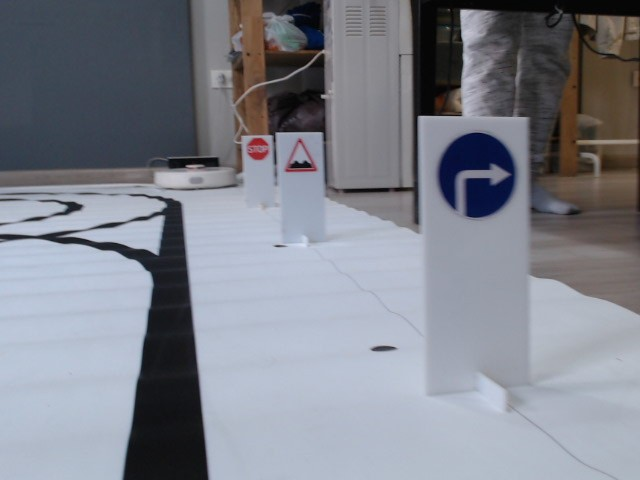Nerov: (282, 139, 320, 175)
Right: (436, 126, 519, 224)
Stop: (246, 137, 271, 159)
